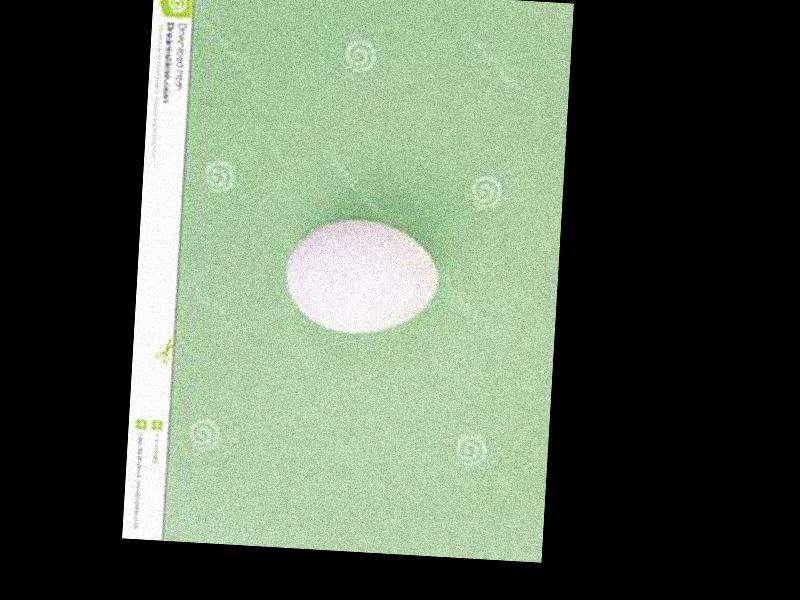Eggs: (283, 214, 439, 335)
